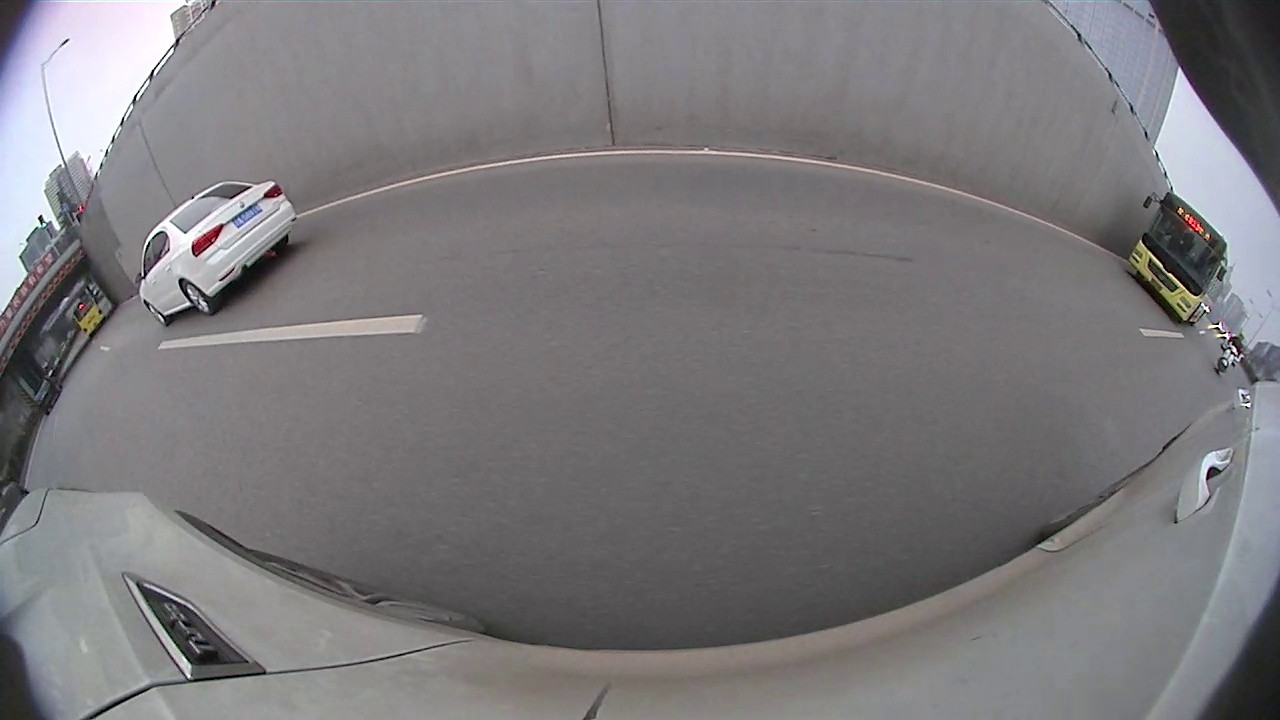bus: (1125, 191, 1229, 327)
car: (135, 179, 299, 329)
front: (139, 296, 172, 330)
rear: (178, 277, 218, 325), (267, 231, 294, 261)
rider: (1214, 334, 1244, 374)
